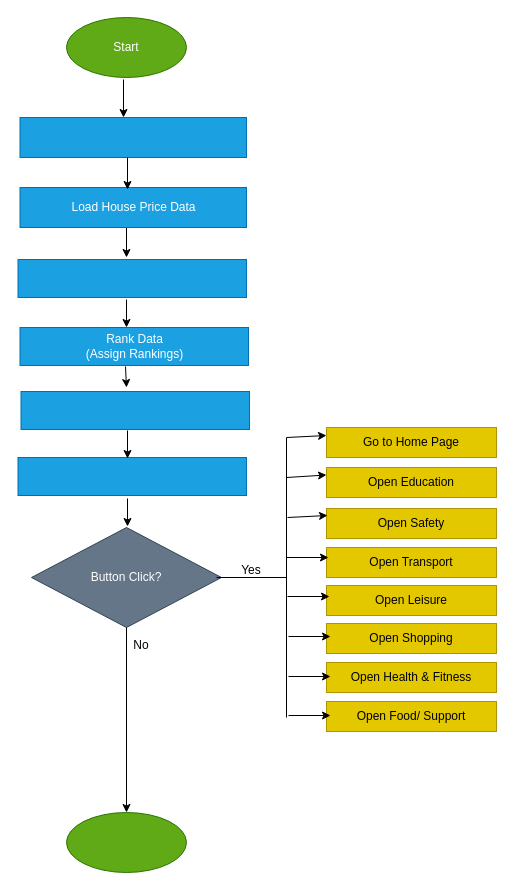
Some shapes in this 514 by 890 pixel diagram are drawn without their labels. The shapes that lost their labels are listed below. From the top down, each one's box as (x1, y1, x2, y2) in pixels, then its label:
(19, 116, 246, 158): Create Main Window
(17, 258, 246, 298): Process Data (Convert & Store Values)
(20, 390, 250, 430): Calculate Score (Average Ranking)
(17, 456, 246, 496): Sort Borough by Score
(66, 812, 186, 872): End
